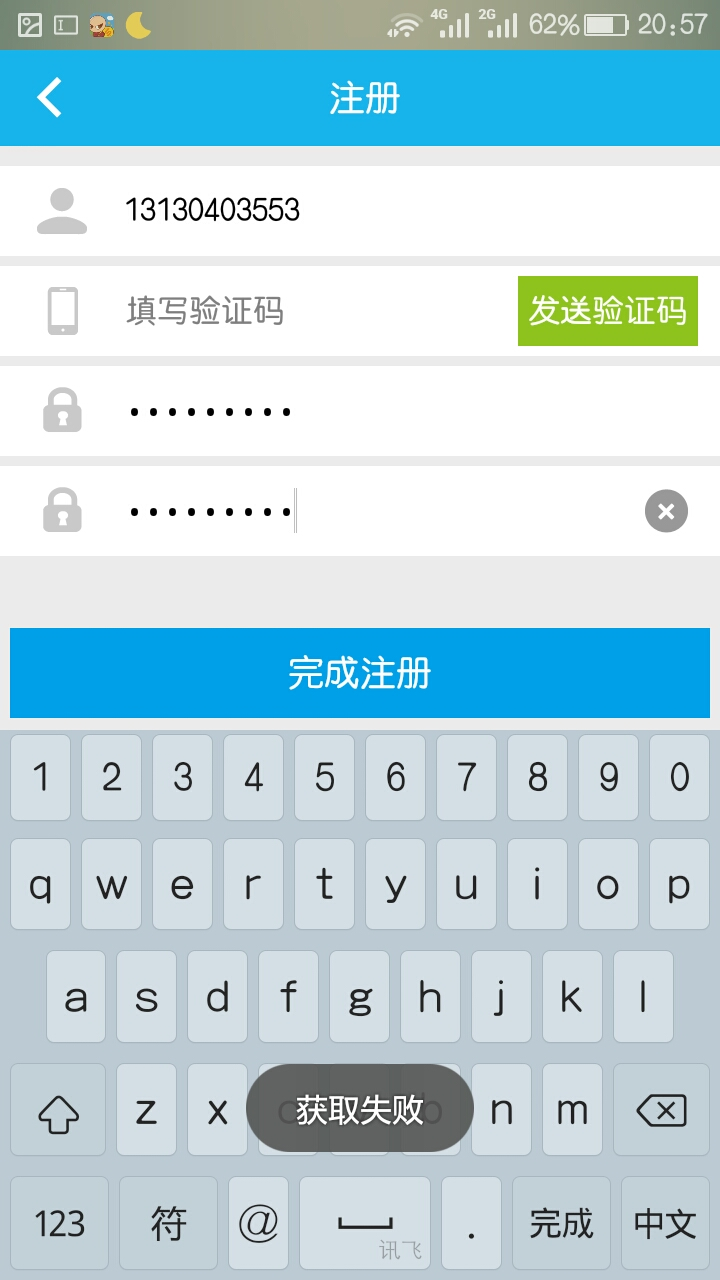button: (3, 621, 720, 731), (499, 267, 711, 353)
imgbutton: (636, 485, 696, 541)
textview: (22, 181, 714, 253)
